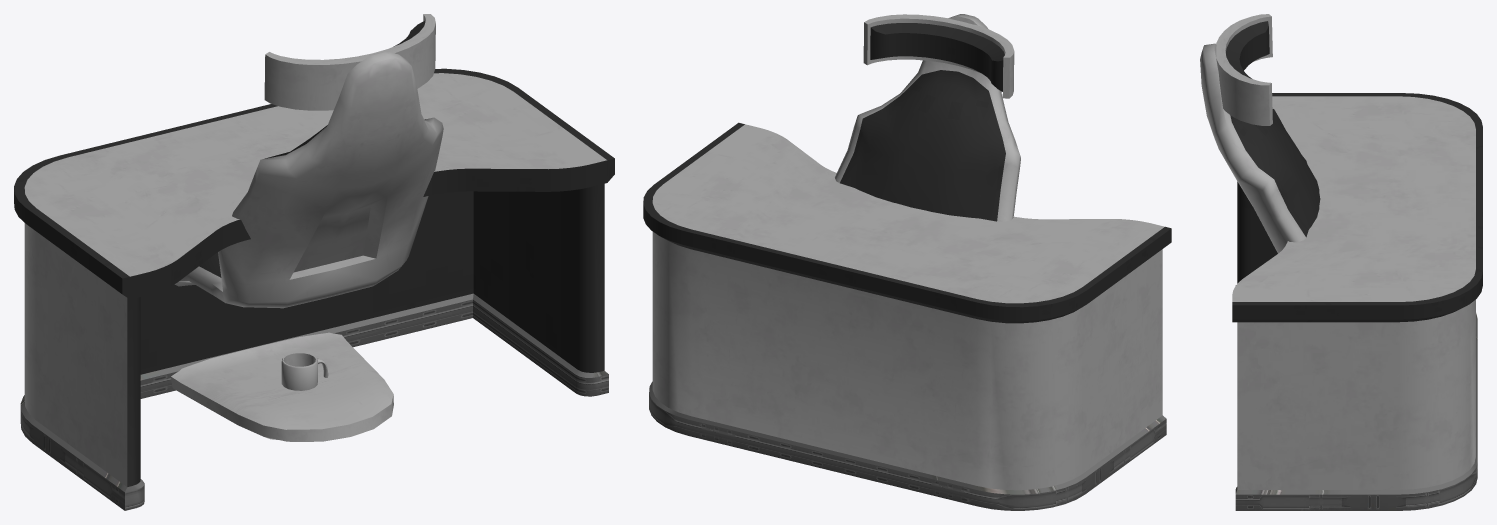
File: scifi-essentials.glb
3 renders of one model, left to right at view 1: azimuth 30°, elevation 25°; view 2: azimuth 150°, elevation 25°; view 3: azimuth 270°, elevation 25°, orthographic. The views are drawn at different scales.
Parts seen in each view (by area): view 1: Prop_Desk_Small, Prop_Chair, Prop_Mug; view 2: Prop_Desk_Small, Prop_Chair; view 3: Prop_Desk_Small, Prop_Chair.
Boxes of the visible parts, x1,y1,x2,y2 form: Prop_Desk_Small: (14, 68, 614, 510); Prop_Chair: (171, 14, 443, 441); Prop_Mug: (281, 352, 328, 390); Prop_Desk_Small: (643, 122, 1171, 510); Prop_Chair: (835, 14, 1020, 221); Prop_Desk_Small: (1232, 93, 1482, 510); Prop_Chair: (1200, 14, 1320, 253).
Size of the model in its own units: 2.06 by 1.64 by 1.16.
Materials: 3 (3 with a texture image).
